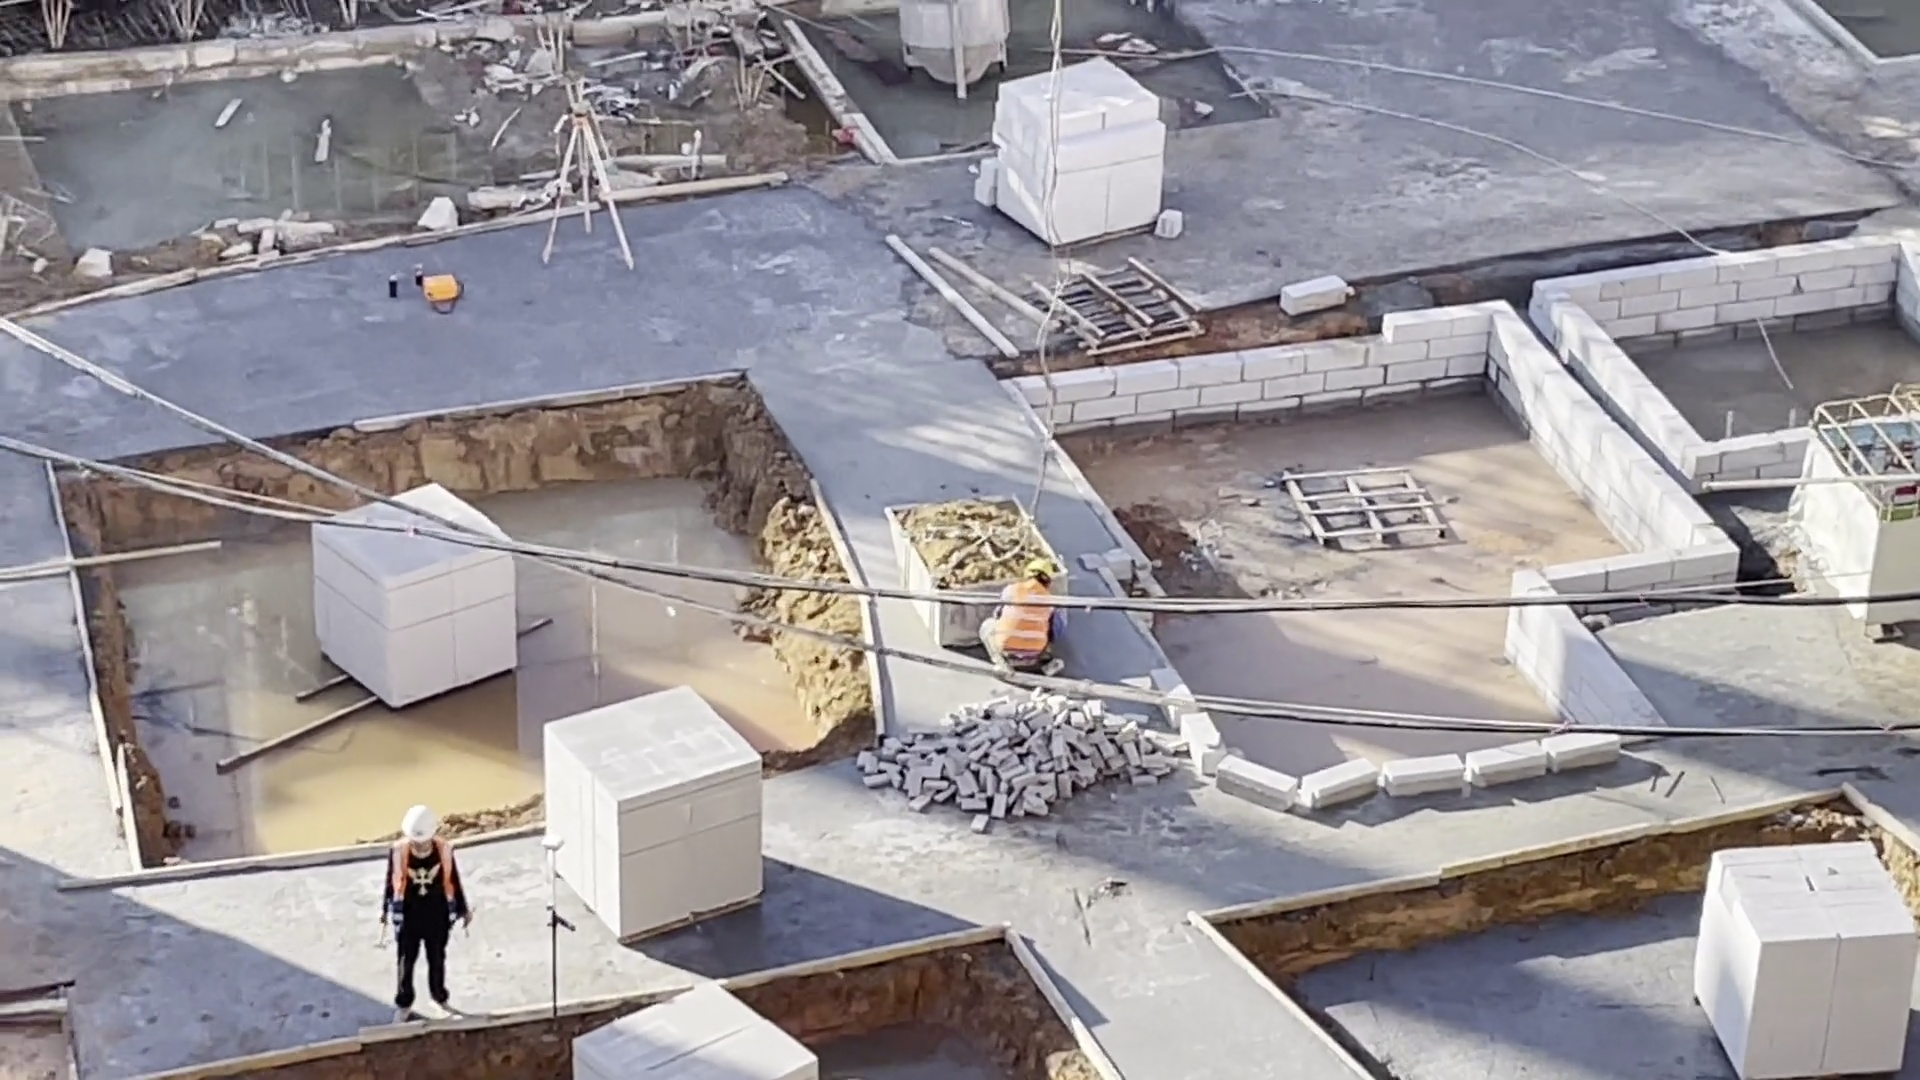brick: (542, 675, 767, 942), (1689, 837, 1915, 1080), (973, 58, 1175, 260), (308, 565, 527, 705), (573, 979, 825, 1080)
helmet: (398, 802, 440, 847), (1021, 556, 1056, 583)
hopper: (892, 1, 1014, 97), (887, 498, 996, 591)
person: (376, 804, 478, 1029), (974, 554, 1070, 678)
vest: (387, 840, 461, 932), (985, 607, 1058, 656)
